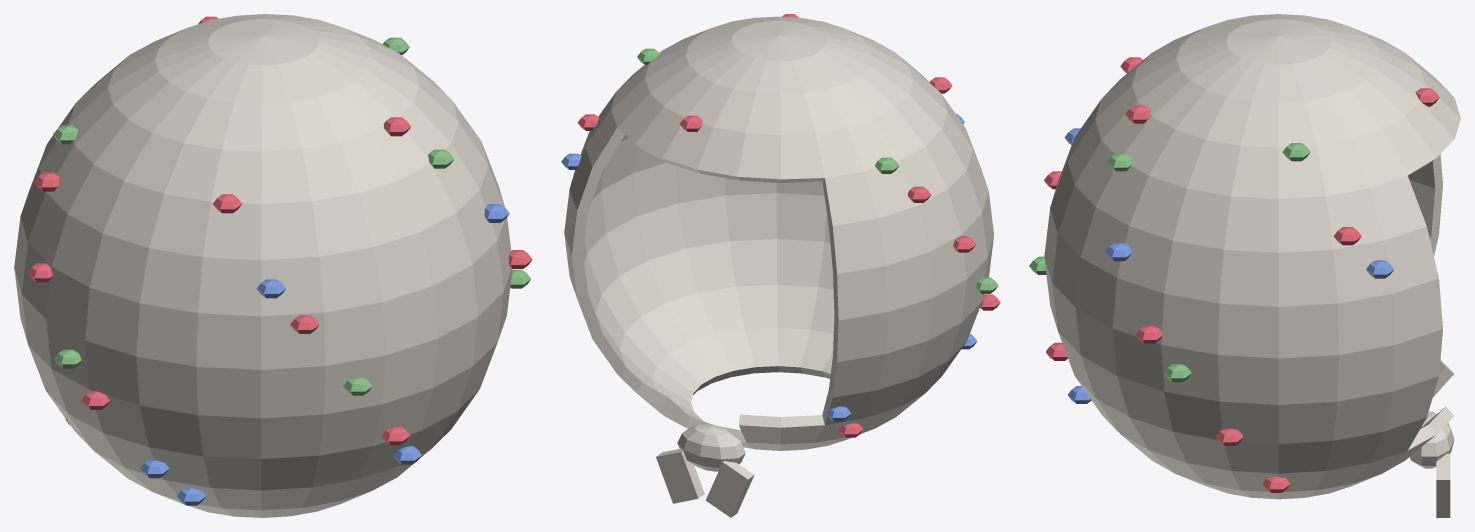
File: hat_headscarf.glb
3 views of the same model, side by side, from view 1: azimuth 30°, elevation 25°; view 2: azimuth 150°, elevation 25°; view 3: azimuth 270°, elevation 25° (orthographic). The views are drawn at different scales.
Parts seen in each view (by area): view 1: Head; view 2: Head; view 3: Head.
Part boxes in pixels (box(x1,y1,x2,y2)): Head: box(14, 14, 532, 517); Head: box(561, 14, 1000, 517); Head: box(1029, 14, 1460, 517).
Size of the model in its own units: 0.6965 by 0.7241 by 0.6084.
